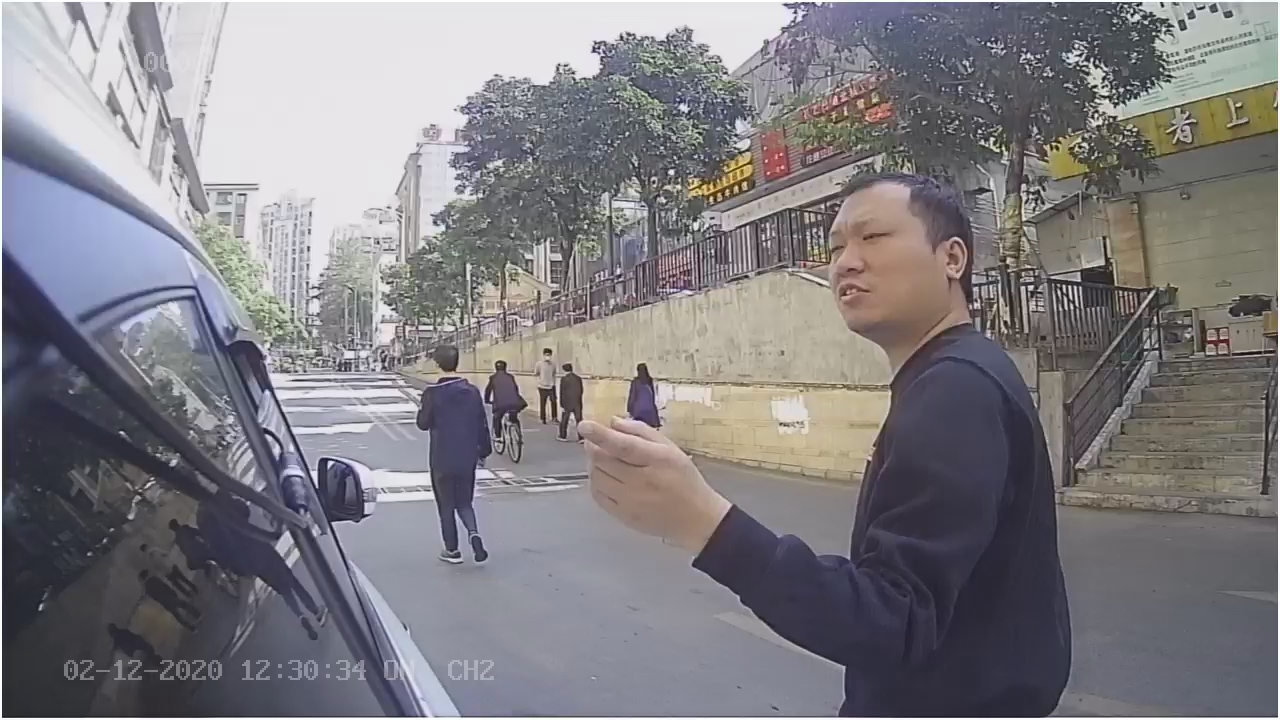person: (812, 165, 1058, 537), (405, 340, 502, 578)
